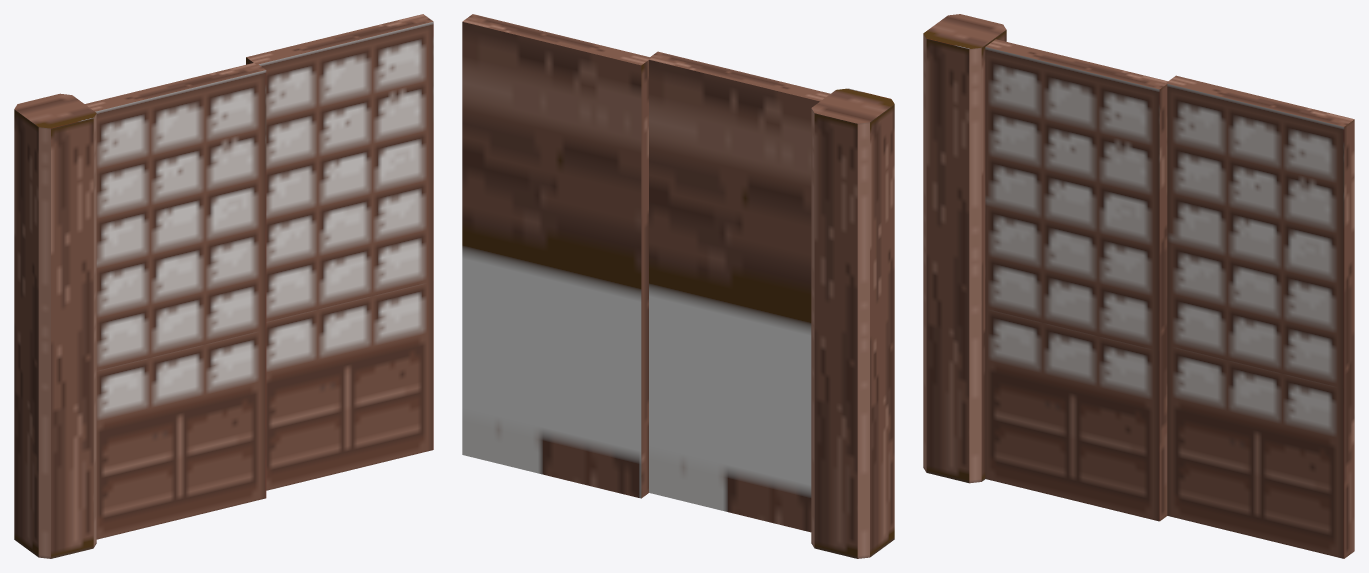
The model's file is Wall_Doors.fbx.
3 renders of one model, left to right at view 1: azimuth 30°, elevation 25°; view 2: azimuth 150°, elevation 25°; view 3: azimuth 330°, elevation 25°, orthographic.
Parts seen in each view (by area): view 1: Cube.013; view 2: Cube.013; view 3: Cube.013.
Part boxes in pixels (bbox=[...]): Cube.013: bbox=[14, 14, 433, 558]; Cube.013: bbox=[462, 14, 894, 558]; Cube.013: bbox=[923, 14, 1354, 558].
Size of the model in its own units: 299 by 303 by 42.73.
